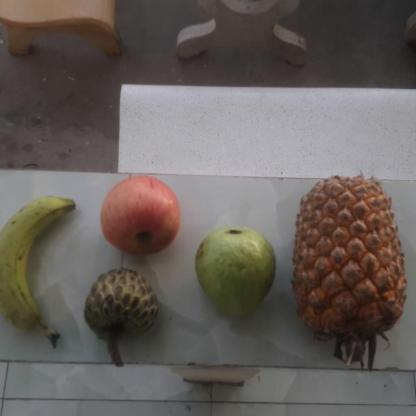annona: (82, 269, 162, 346)
apple: (99, 176, 183, 258)
banana: (1, 195, 81, 343)
guava: (196, 225, 280, 317)
pineapple: (293, 178, 408, 347)
